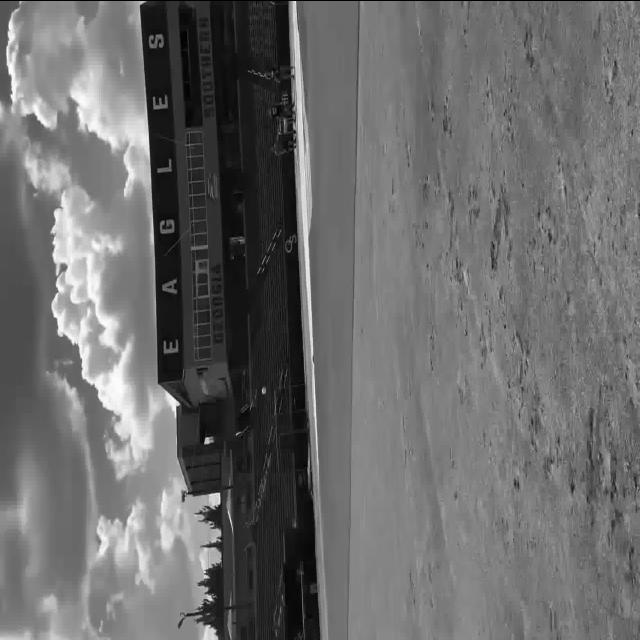baseball: (261, 384, 268, 393)
